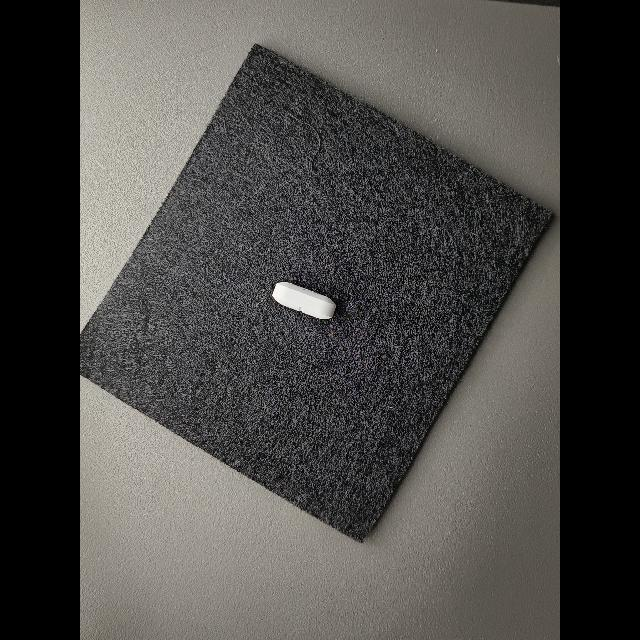Intact Pill: (272, 282, 336, 320)
